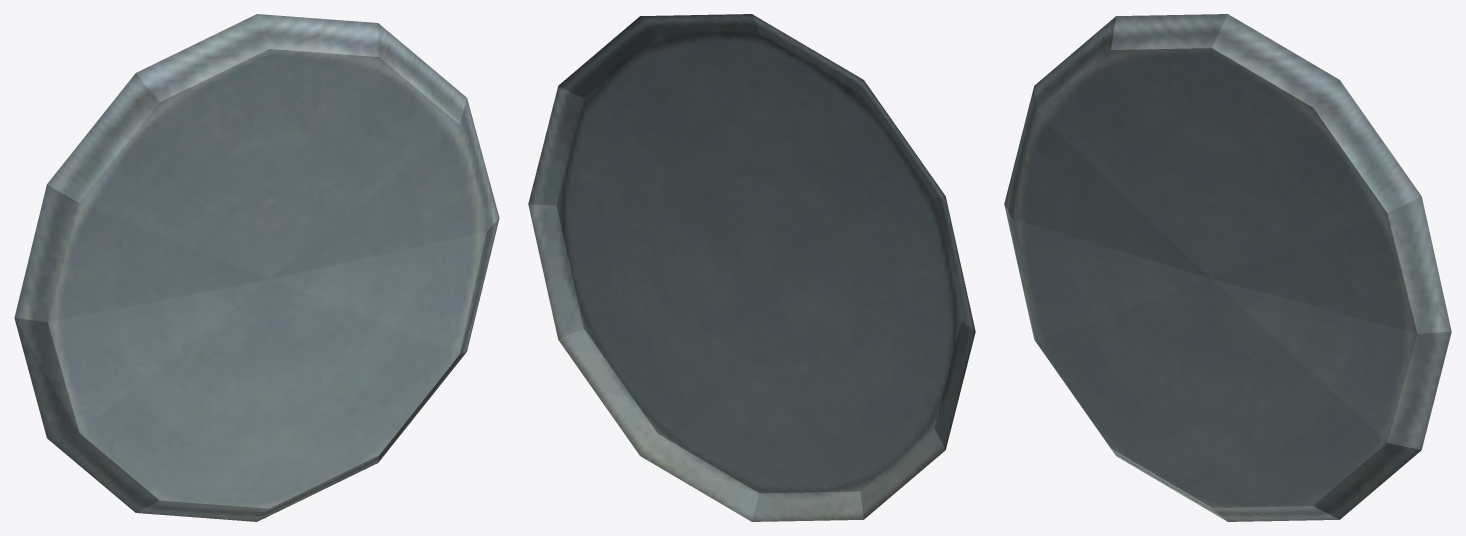
The model's file is Sheep_waitressTray.obj.
The picture shows the model from 3 angles, left to right: view 1: azimuth 30°, elevation 25°; view 2: azimuth 150°, elevation 25°; view 3: azimuth 330°, elevation 25°; orthographic projection.
Visible parts, largest first — view 1: Sheep_waitressTray_tri; view 2: Sheep_waitressTray_tri; view 3: Sheep_waitressTray_tri.
Boxes of the visible parts, box(x1,y1,x2,y2) form: Sheep_waitressTray_tri: box(14, 14, 499, 521); Sheep_waitressTray_tri: box(528, 14, 975, 521); Sheep_waitressTray_tri: box(1004, 14, 1451, 521).
Size of the model in its own units: 0.3196 by 0.3327 by 0.0369.
1 material, 1 textured.
